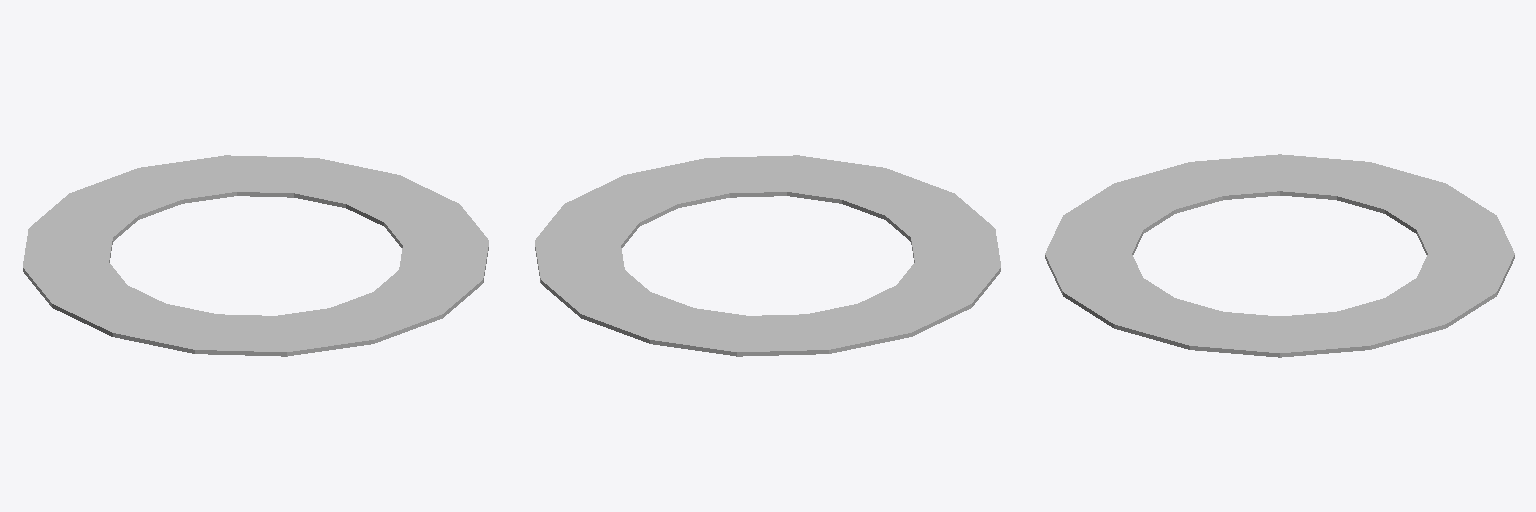
Rendered from disc_1.obj.
3 renders of one model, left to right at view 1: azimuth 30°, elevation 25°; view 2: azimuth 150°, elevation 25°; view 3: azimuth 270°, elevation 25°, orthographic.
Parts seen in each view (by area): view 1: disc_Cube.002; view 2: disc_Cube.002; view 3: disc_Cube.002.
Boxes of the visible parts, x1=… form: disc_Cube.002: x1=23, y1=155, x2=488, y2=356; disc_Cube.002: x1=535, y1=155, x2=1000, y2=356; disc_Cube.002: x1=1045, y1=154, x2=1514, y2=357.
Bounding box in the file's own units: 1 × 0.01 × 1.